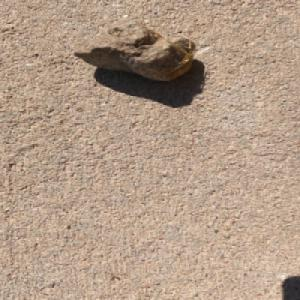Rock: (69, 18, 197, 81)
